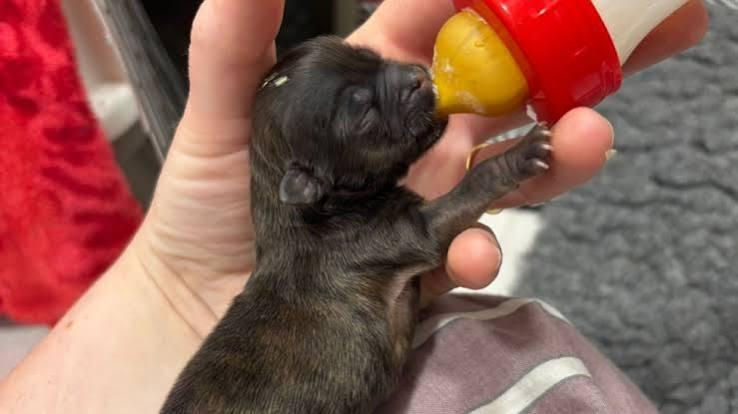puppy-dog: (151, 32, 555, 414)
